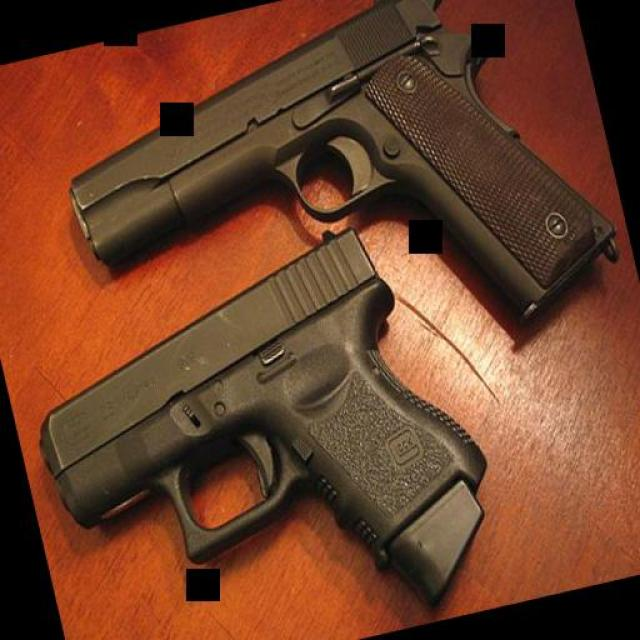gun: (32, 0, 630, 419), (2, 201, 522, 640)
